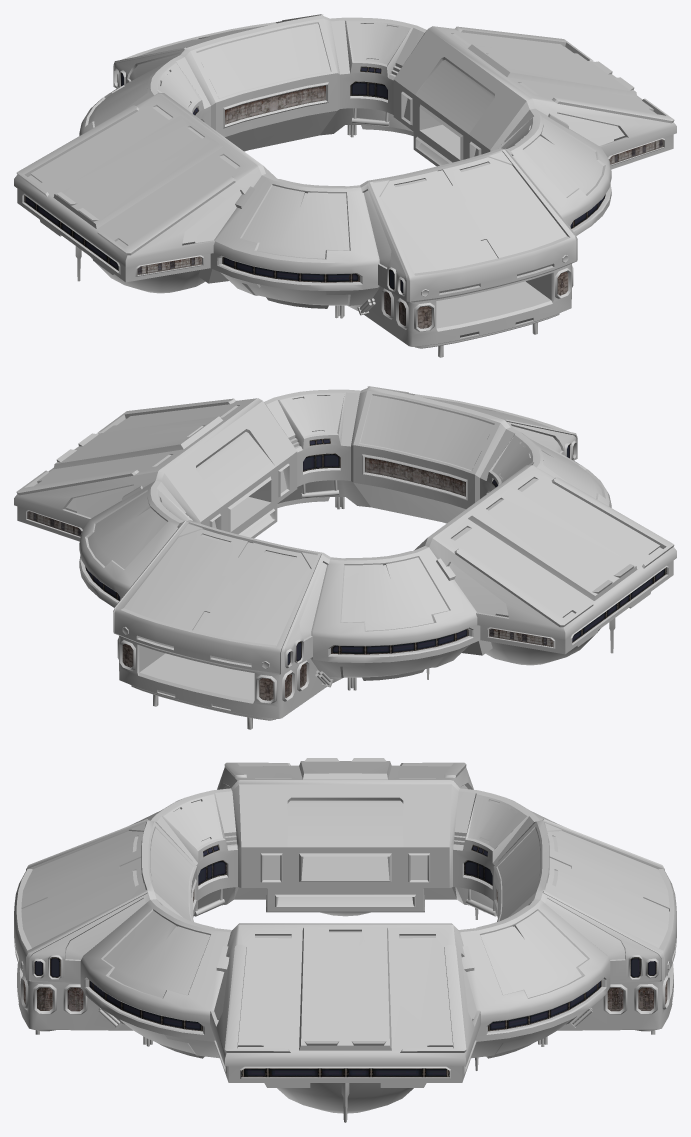
File: spacestation_outpost_tradefed_l0.fbx
3 views of the same model, one above another, from view 1: azimuth 30°, elevation 25°; view 2: azimuth 150°, elevation 25°; view 3: azimuth 270°, elevation 25° (orthographic). The views are drawn at different scales.
Visible parts, largest first — view 1: mesh_node; view 2: mesh_node; view 3: mesh_node.
Part boxes in pixels (x1,y1,x2,y2): mesh_node: (14,14,676,357); mesh_node: (14,386,676,729); mesh_node: (14,758,676,1122).
Size of the model in its own units: 299 by 76.22 by 289.
